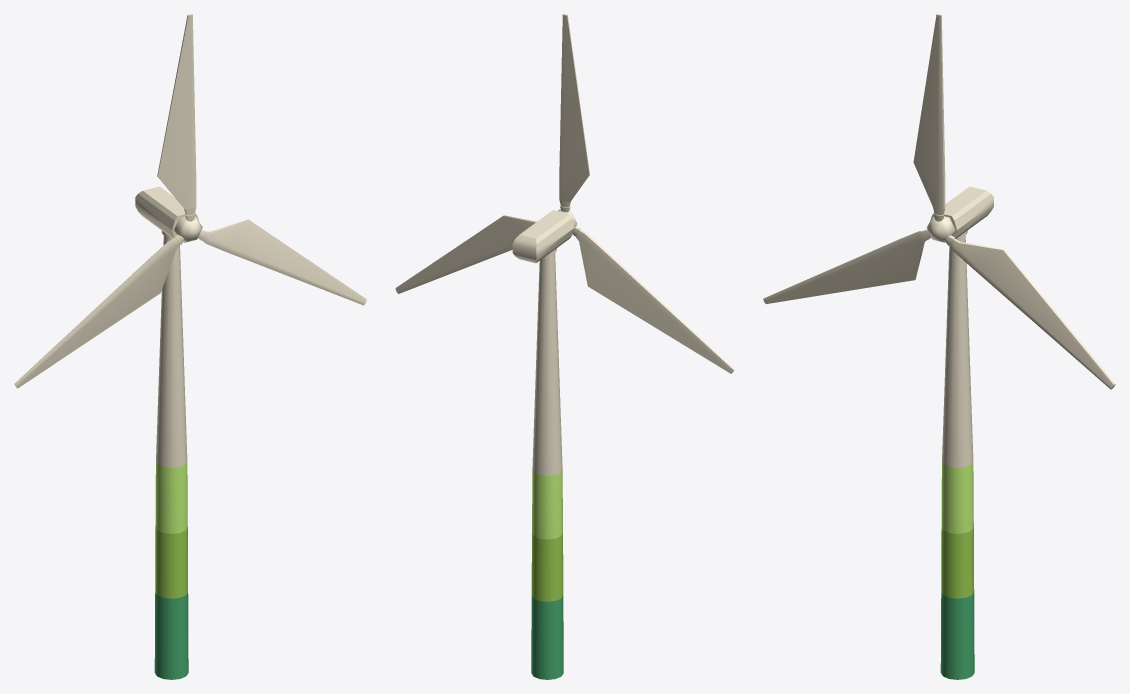
The model's file is M_Windmill_Var2_1.fbx.
3 views of the same model, side by side, from view 1: azimuth 30°, elevation 25°; view 2: azimuth 150°, elevation 25°; view 3: azimuth 330°, elevation 25° (orthographic). The views are drawn at different scales.
Parts seen in each view (by area): view 1: M_Windmill_Var2_1; view 2: M_Windmill_Var2_1; view 3: M_Windmill_Var2_1.
Boxes of the visible parts, x1,y1,x2,y2 form: M_Windmill_Var2_1: (14,14,366,679); M_Windmill_Var2_1: (395,14,734,679); M_Windmill_Var2_1: (763,14,1115,679).
Bounding box in the file's own units: 2.13 × 3.89 × 0.4978.
